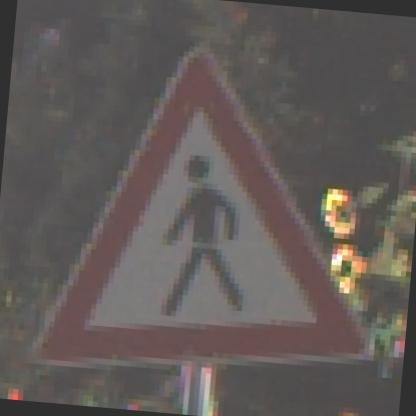crosswalk: (14, 39, 413, 403)
